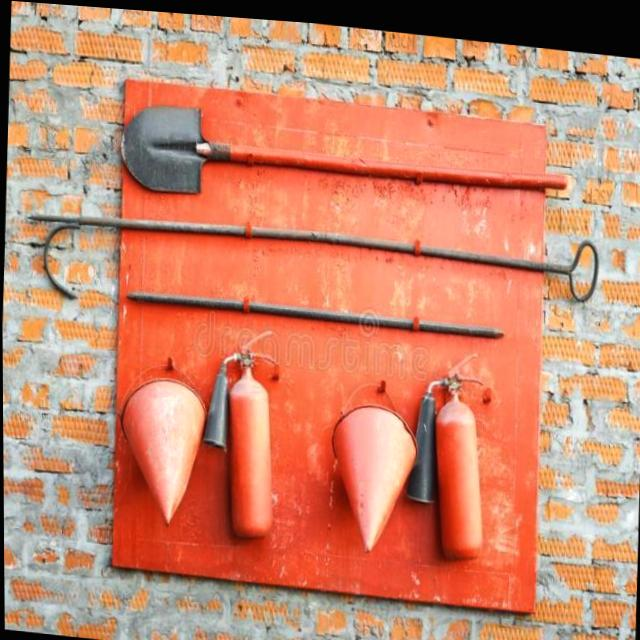FireExtinguisher: (194, 311, 288, 543), (398, 341, 494, 564)
